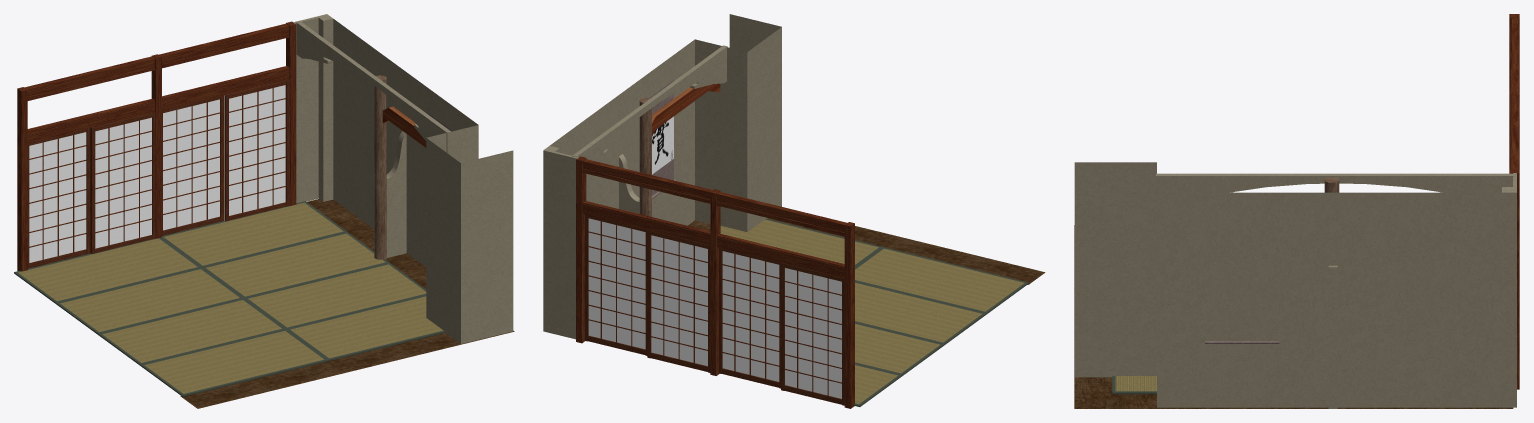
File: ModelRoom_4.fbx
3 renders of one model, left to right at view 1: azimuth 30°, elevation 25°; view 2: azimuth 150°, elevation 25°; view 3: azimuth 270°, elevation 25°, orthographic. The views are drawn at different scales.
Visible parts, largest first — view 1: tatami, Wall, Syoji, Syoji.001, Hashira, Floor, Hashira_2, Ranma; view 2: Wall, tatami, Syoji.001, Syoji, Hashira, Floor, Kakejiku, Hashira_2, Ranma; view 3: Wall, Floor, Hashira, tatami.
Boxes of the visible parts, x1,y1,x2,y2 form: tatami: (14, 201, 444, 396); Wall: (293, 14, 513, 343); Syoji: (27, 112, 155, 268); Syoji.001: (162, 79, 289, 235); Hashira: (17, 21, 296, 271); Floor: (180, 199, 514, 408); Hashira_2: (374, 75, 386, 259); Ranma: (382, 106, 426, 147); Wall: (543, 14, 781, 339); tatami: (720, 218, 1028, 406); Syoji.001: (584, 215, 710, 372); Syoji: (719, 247, 844, 405); Hashira: (576, 156, 854, 408); Floor: (688, 218, 1045, 284); Kakejiku: (649, 80, 676, 198); Hashira_2: (639, 97, 651, 216); Ranma: (652, 83, 720, 136); Wall: (1074, 162, 1516, 408); Floor: (1074, 225, 1513, 408); Hashira: (1509, 14, 1519, 389); tatami: (1112, 376, 1156, 394).
Bounding box in the file's own units: 469 × 258 × 480.
